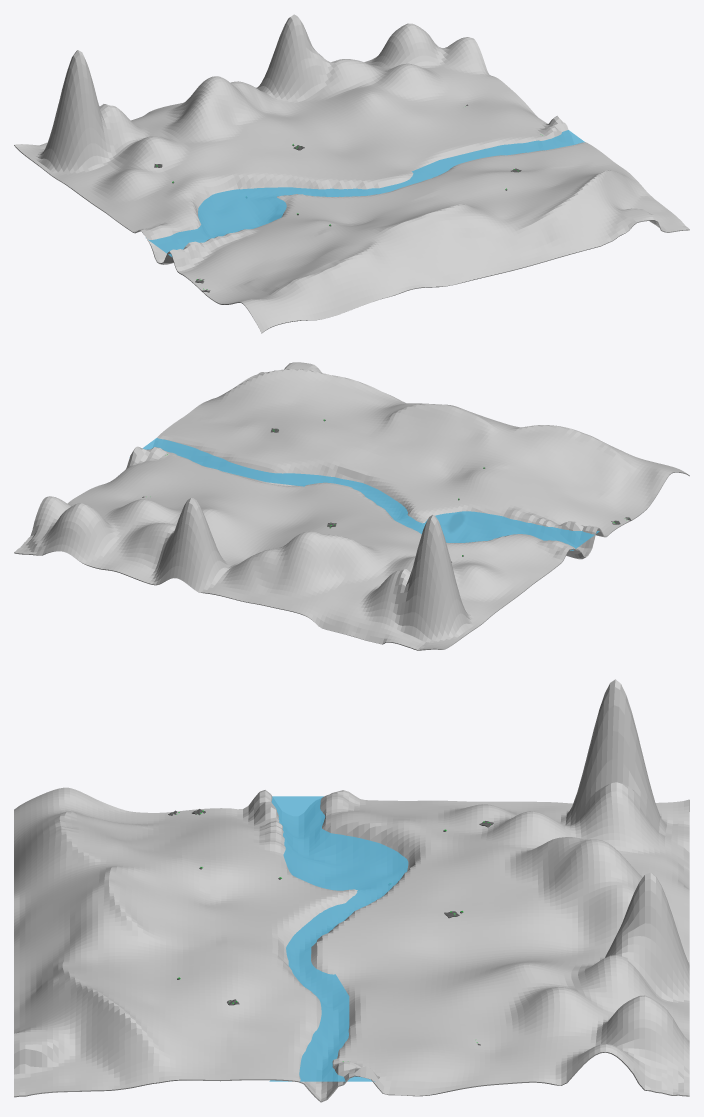
The model's file is maptestvolume.glb.
3 renders of one model, top to bottom at view 1: azimuth 30°, elevation 25°; view 2: azimuth 150°, elevation 25°; view 3: azimuth 270°, elevation 25°, orthographic. The views are drawn at different scales.
Visible parts, largest first — view 1: tearrain, water; view 2: tearrain, water; view 3: tearrain, water.
Part boxes in pixels (<box>): tearrain: <box>14,14,689,333</box>; water: <box>148,130,584,256</box>; tearrain: <box>14,362,689,650</box>; water: <box>129,438,599,550</box>; tearrain: <box>14,679,689,1102</box>; water: <box>269,796,408,1081</box>.
Size of the model in its own units: 501 by 136 by 500.
6 materials, 1 textured.
